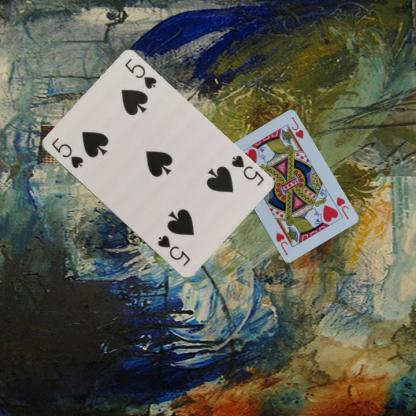5s: (48, 135, 84, 170), (228, 153, 265, 187)
Jh: (328, 194, 350, 221)
